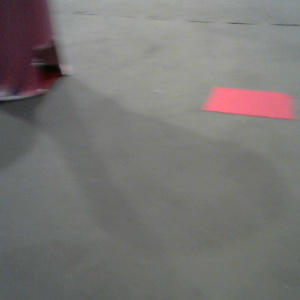middle: (1, 1, 72, 100)
